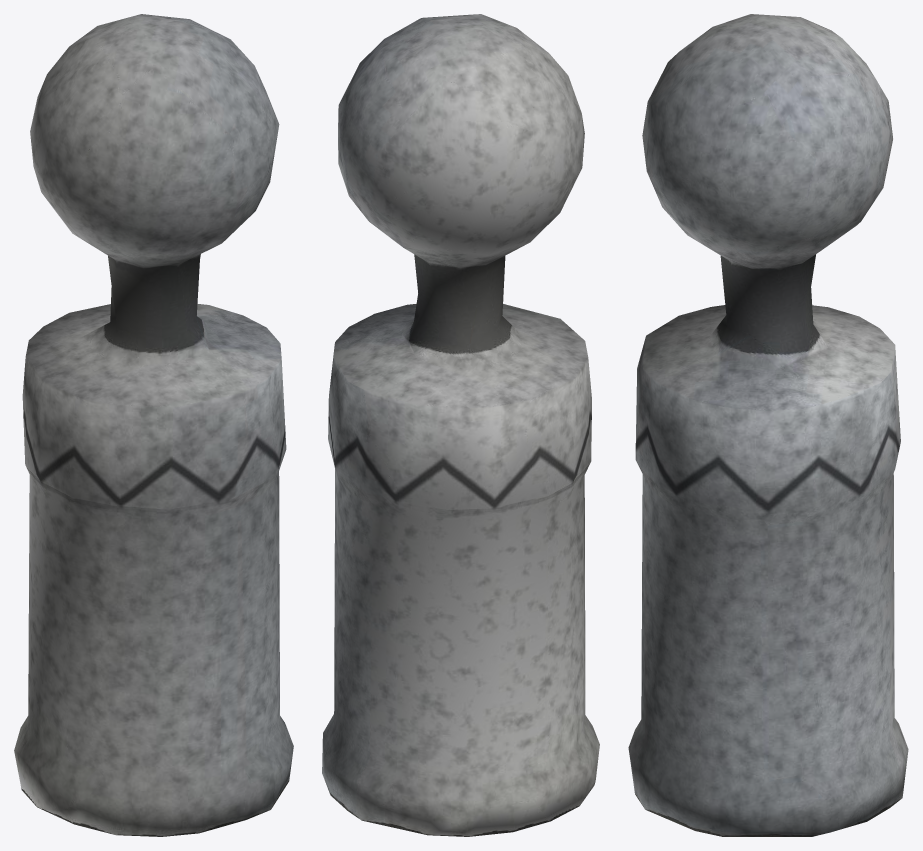
The model's file is post_round_w.glb.
3 views of the same model, side by side, from view 1: azimuth 30°, elevation 25°; view 2: azimuth 150°, elevation 25°; view 3: azimuth 270°, elevation 25° (orthographic).
Visible parts, largest first — view 1: post_round_w_lod0; view 2: post_round_w_lod0; view 3: post_round_w_lod0.
Part boxes in pixels (x1=…): post_round_w_lod0: x1=14, y1=14, x2=293, y2=836; post_round_w_lod0: x1=322, y1=14, x2=599, y2=836; post_round_w_lod0: x1=628, y1=14, x2=908, y2=836.
Bounding box in the file's own units: 0.2976 × 0.8937 × 0.2997.
1 material, 1 textured.
